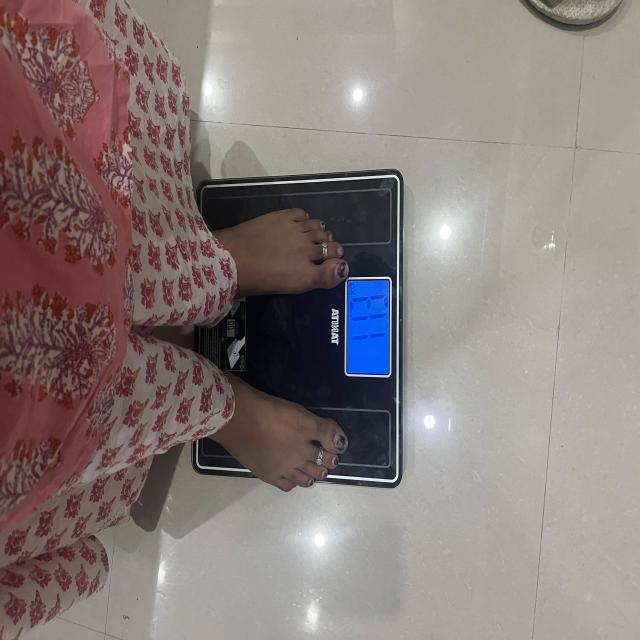ws: (328, 236, 398, 484)
